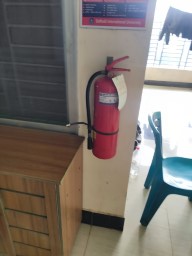fire_extinguisher: (42, 81, 120, 142)
